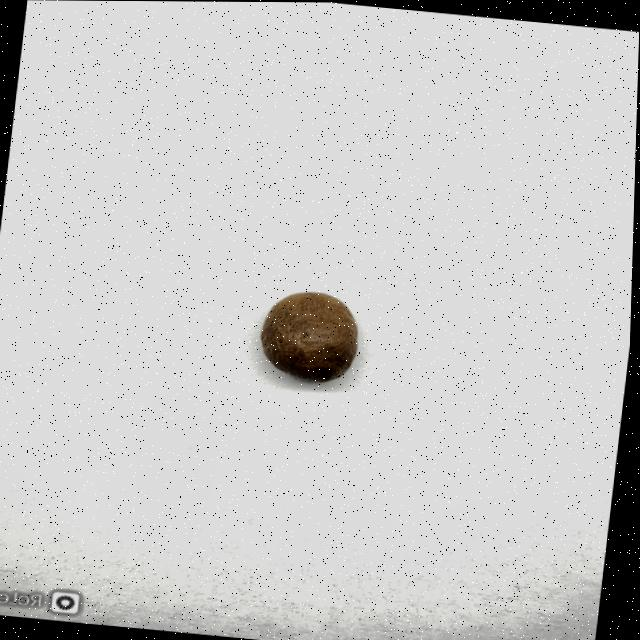Good bean: (258, 286, 366, 385)
